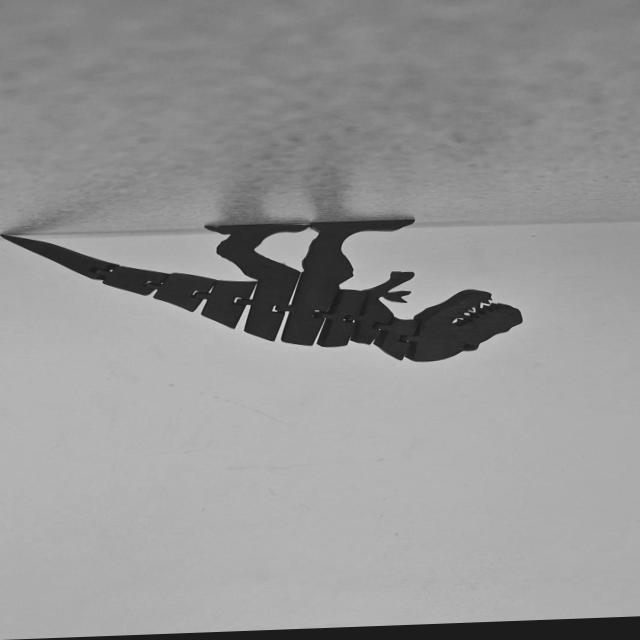dino: (0, 214, 525, 379)
